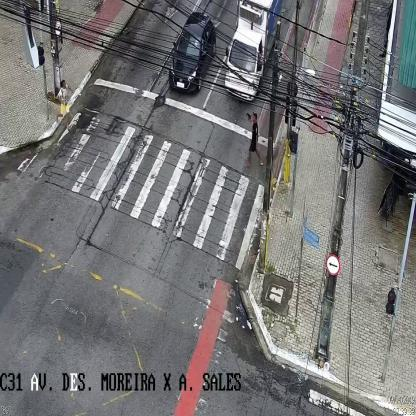car: (169, 10, 216, 94)
person: (246, 112, 264, 170), (56, 80, 74, 132)
truck: (224, 0, 282, 104)
